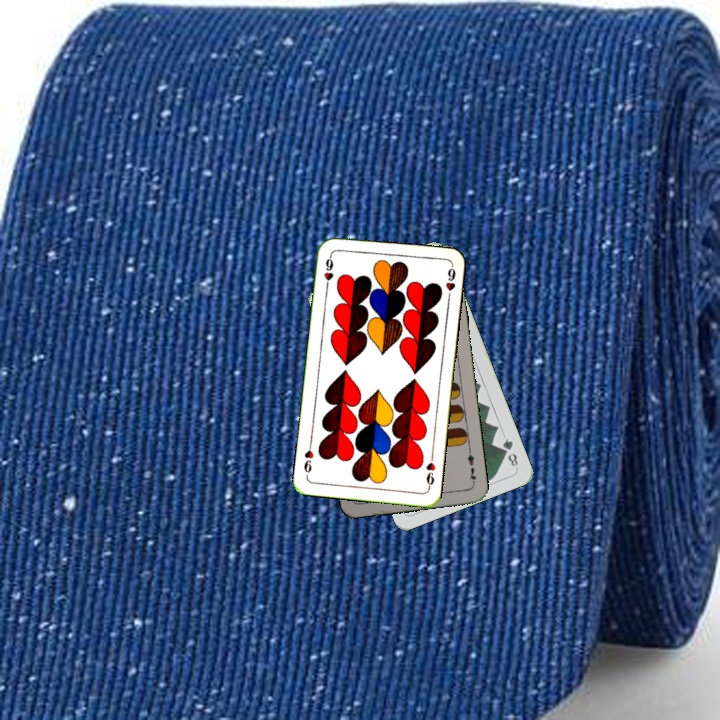E7: (464, 446, 479, 487)
G8: (498, 434, 521, 471)
H9: (422, 451, 438, 491), (320, 251, 336, 291)
